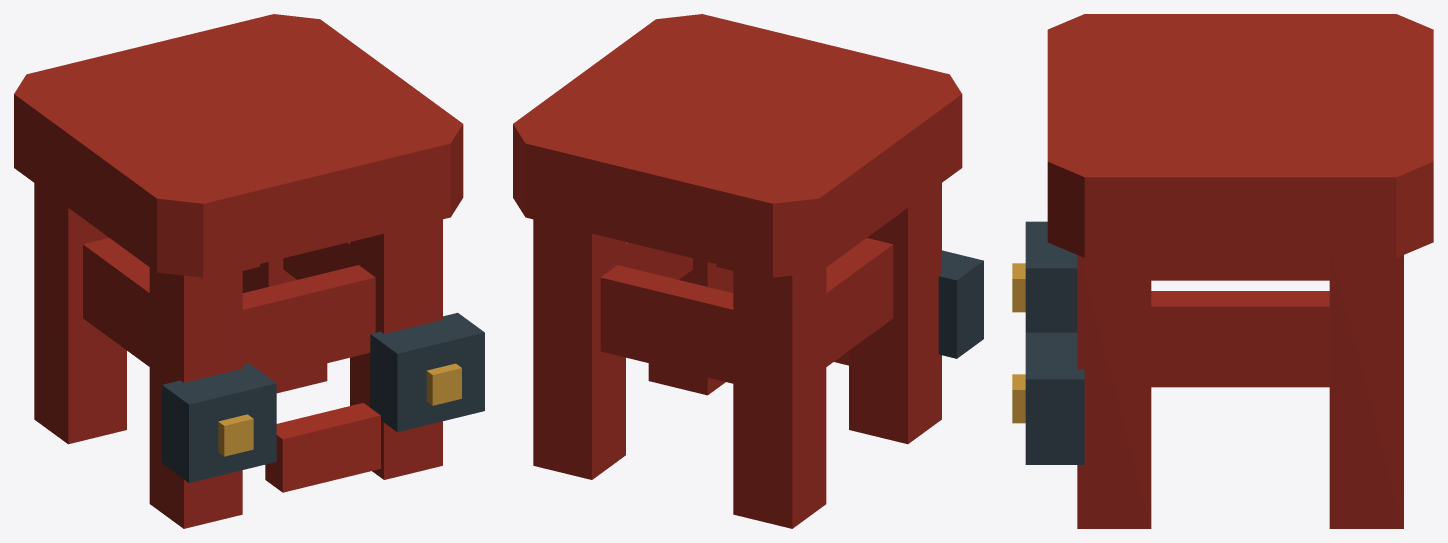
The model's file is market-stool-coral.glb.
The picture shows the model from 3 angles, left to right: view 1: azimuth 30°, elevation 25°; view 2: azimuth 150°, elevation 25°; view 3: azimuth 270°, elevation 25°; orthographic projection. The views are drawn at different scales.
Parts seen in each view (by area): view 1: market-stool-coral; view 2: market-stool-coral; view 3: market-stool-coral.
Part boxes in pixels (box(x1,y1,x2,y2)): market-stool-coral: box(14, 14, 484, 528); market-stool-coral: box(513, 14, 983, 528); market-stool-coral: box(1012, 14, 1433, 528).
Bounding box in the file's own units: 0.49 × 0.51 × 0.5347.
